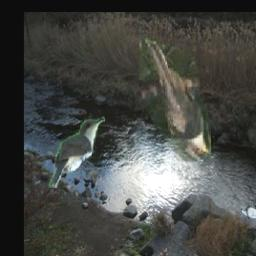Cuckoo: (140, 35, 212, 162), (50, 117, 106, 189)
